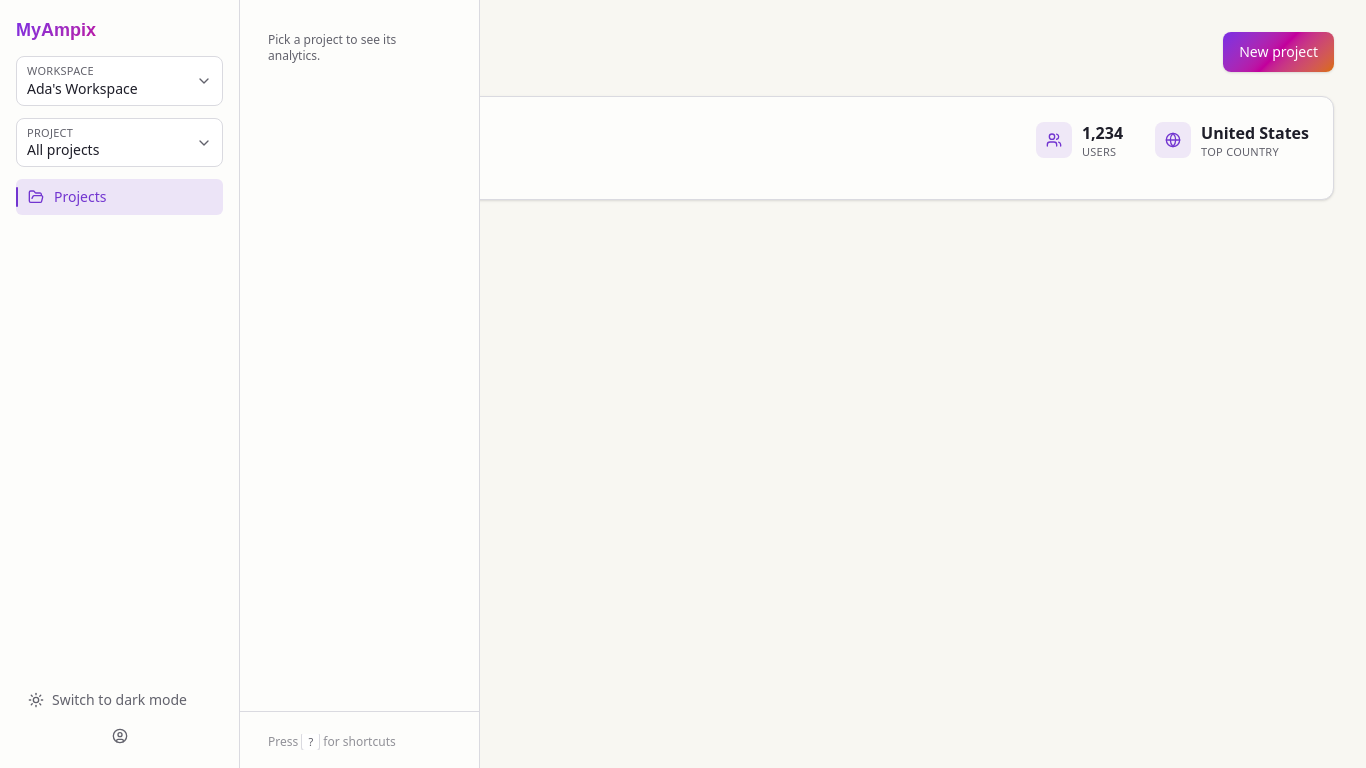
Test case: AppLayout › shows navigation, the workspace + project selectors, and the signed-in user
The width and height of the screenshot is (1366, 768).
Expected: the heading "Projects" is shown, [160,36,256,68]
Expected: the navigation bar named "Primary" is shown, [268,31,396,64]
Hover over the element with test id "global-sidebar" at (120, 384), box [0,0,240,767]
Expected: the text "All projects" is shown, [27,140,99,159]
Click the button named "Account menu" at (120, 736), box [16,720,223,752]
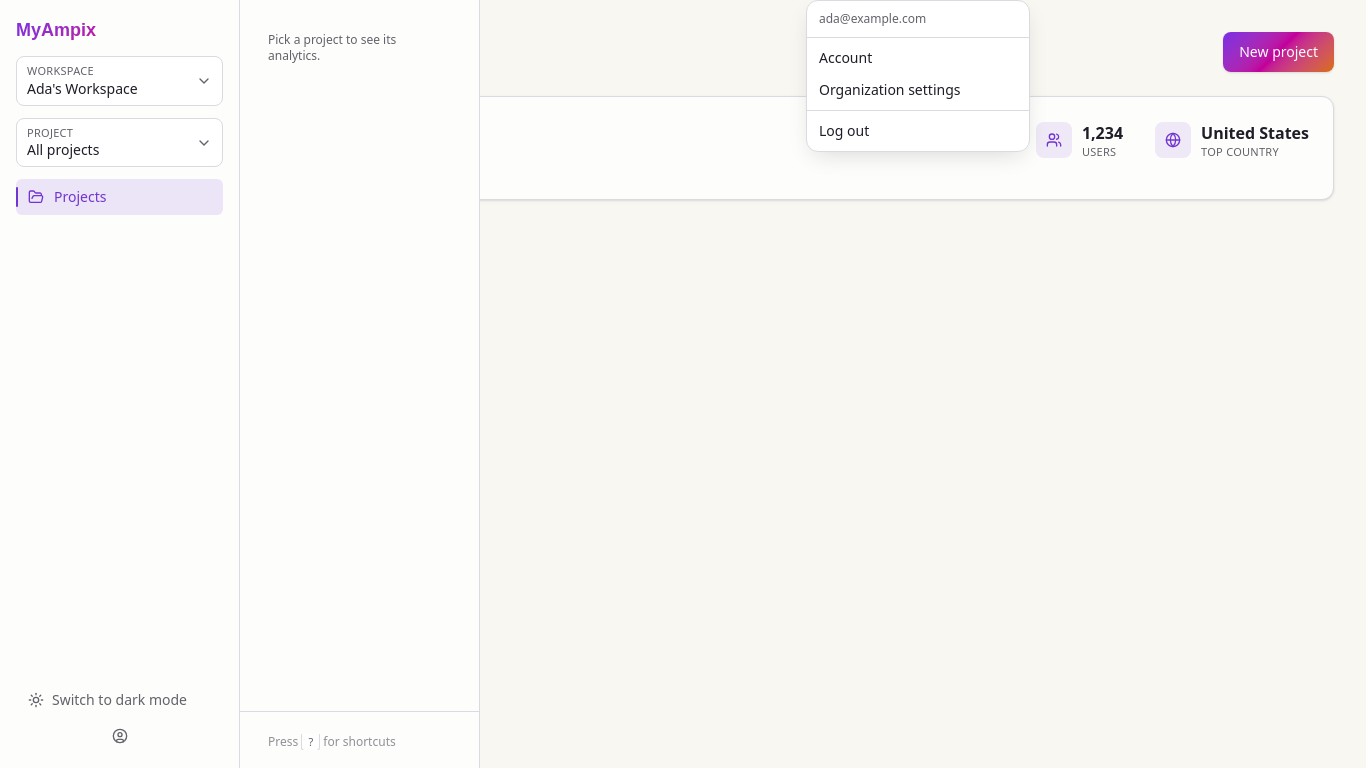
Expected: the text "ada@example.com" is shown, [819,10,926,27]
